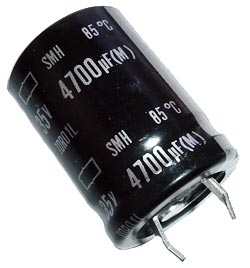capacitor: (8, 7, 227, 238)
